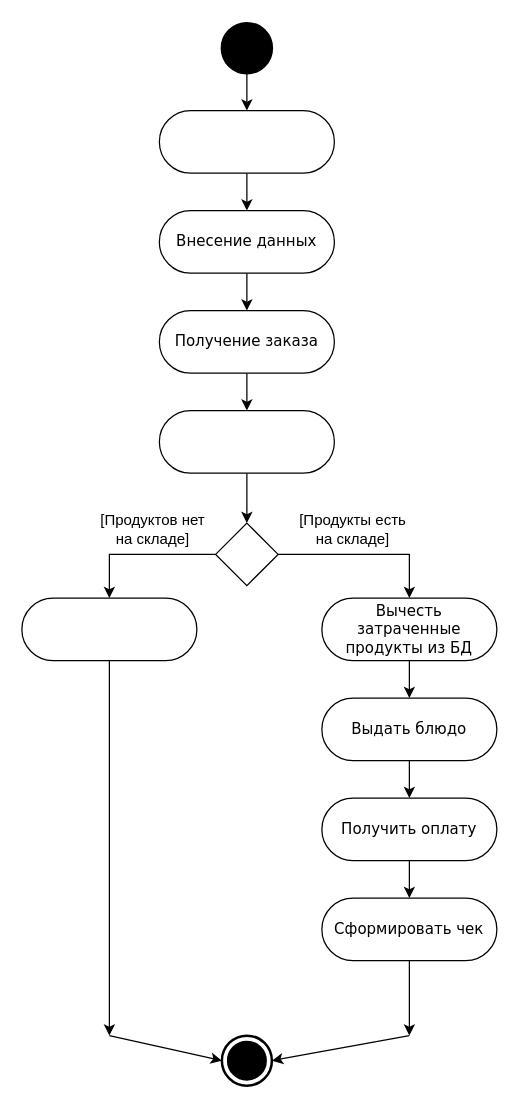
Some shapes in this 519 by 1108 pixel diagram are drawn without their labels. The box of each missing label's shape, as (x1, y1, x2, y2) in pixels:
Заказать недостающие продукты: (21, 597, 197, 661)
Получение данных клиента: (158, 109, 334, 173)
Проверка наличия продуктов: (158, 409, 334, 473)
